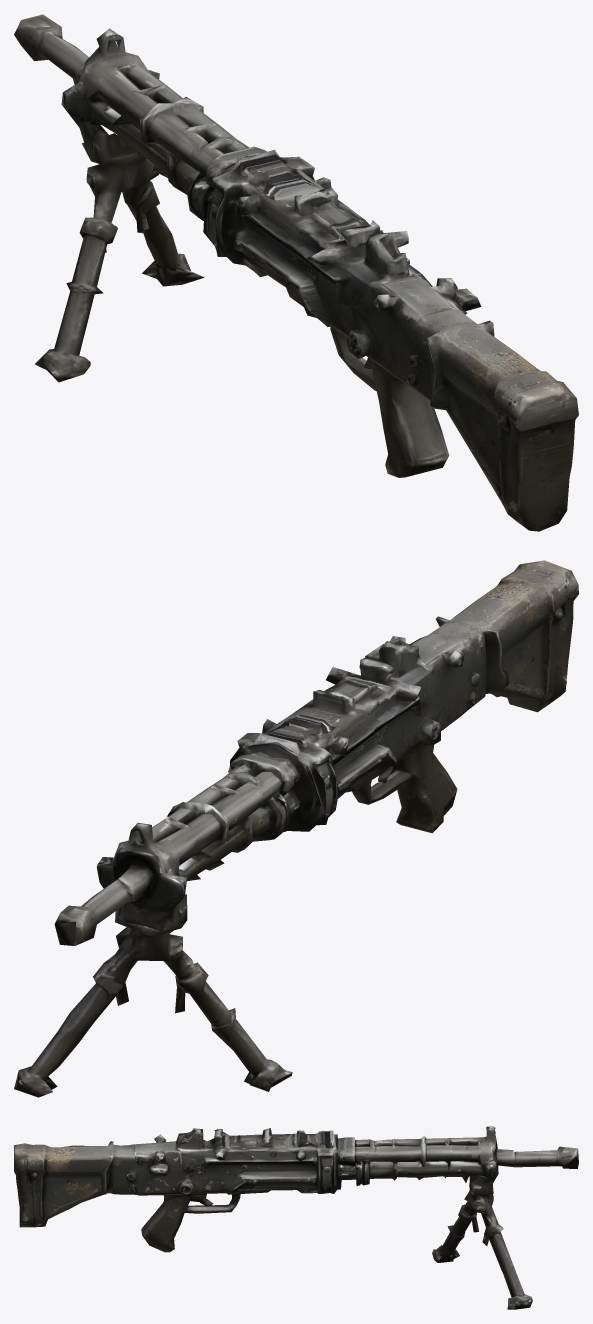
Rendered from w_kord.glb.
3 views of the same model, one above another, from view 1: azimuth 30°, elevation 25°; view 2: azimuth 150°, elevation 25°; view 3: azimuth 270°, elevation 25° (orthographic). The views are drawn at different scales.
Visible parts, largest first — view 1: tripo_node_c29294f6-e926-49a8-a7b2-cc9330cf2ff2; view 2: tripo_node_c29294f6-e926-49a8-a7b2-cc9330cf2ff2; view 3: tripo_node_c29294f6-e926-49a8-a7b2-cc9330cf2ff2.
Boxes of the visible parts, <box> form: tripo_node_c29294f6-e926-49a8-a7b2-cc9330cf2ff2: <box>14,14,578,531</box>; tripo_node_c29294f6-e926-49a8-a7b2-cc9330cf2ff2: <box>14,560,578,1097</box>; tripo_node_c29294f6-e926-49a8-a7b2-cc9330cf2ff2: <box>14,1126,578,1309</box>.
Size of the model in its own units: 0.2427 by 0.3094 by 1.
Materials: 1 (1 with a texture image).
